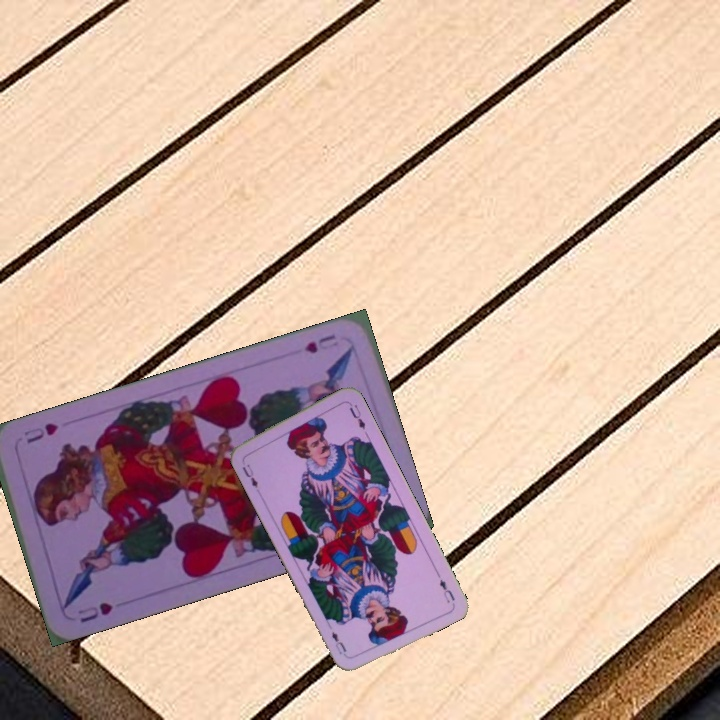EU: (432, 568, 458, 606), (238, 455, 260, 491)
HU: (73, 598, 115, 626), (300, 330, 341, 356)
